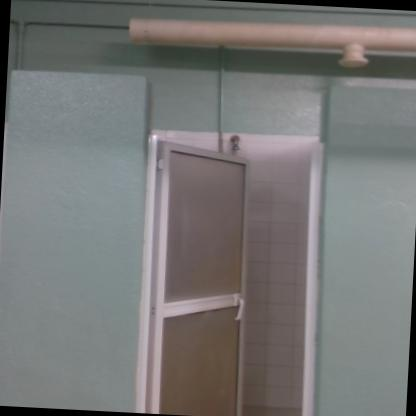semi: (101, 109, 345, 416)
